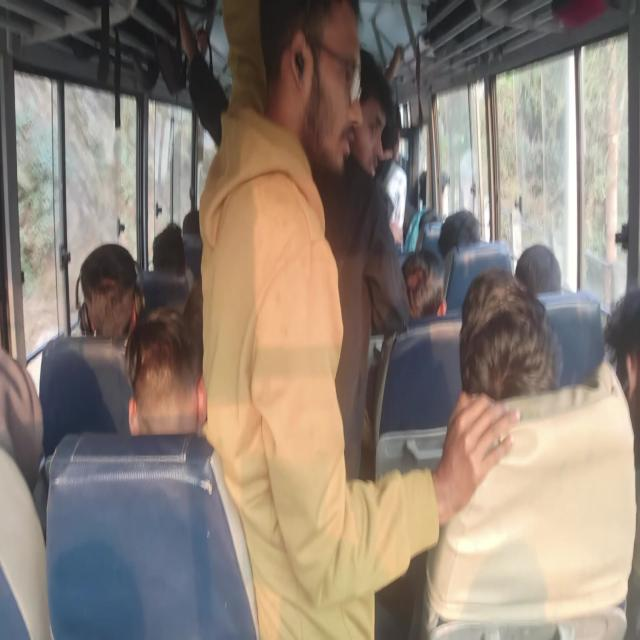person: (198, 1, 521, 638), (124, 305, 259, 638), (314, 44, 410, 481), (38, 242, 143, 458), (458, 267, 562, 402), (124, 306, 207, 436), (0, 346, 44, 493), (76, 242, 140, 340), (401, 248, 446, 320), (514, 243, 562, 296), (438, 209, 482, 256)
